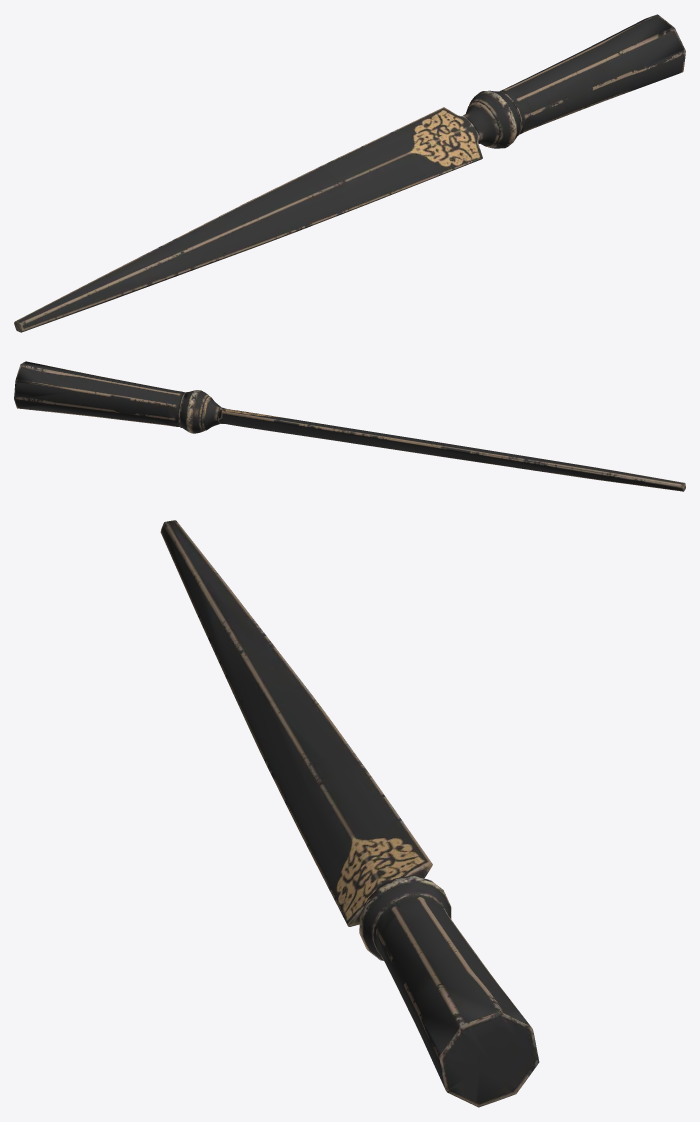
File: knife-angel.glb
The picture shows the model from 3 angles, top to bottom: view 1: azimuth 30°, elevation 25°; view 2: azimuth 150°, elevation 25°; view 3: azimuth 270°, elevation 25°; orthographic projection. The views are drawn at different scales.
Parts seen in each view (by area): view 1: pCylinder1_Faca_artesanal_Luzes:Parte_do_Cabo_0; view 2: pCylinder1_Faca_artesanal_Luzes:Parte_do_Cabo_0; view 3: pCylinder1_Faca_artesanal_Luzes:Parte_do_Cabo_0.
Boxes of the visible parts, bbox=[...] form: pCylinder1_Faca_artesanal_Luzes:Parte_do_Cabo_0: bbox=[14, 14, 685, 332]; pCylinder1_Faca_artesanal_Luzes:Parte_do_Cabo_0: bbox=[14, 361, 685, 491]; pCylinder1_Faca_artesanal_Luzes:Parte_do_Cabo_0: bbox=[160, 520, 539, 1107].
Size of the model in its own units: 1.07 by 0.0841 by 0.2972.
1 material, 1 textured.
